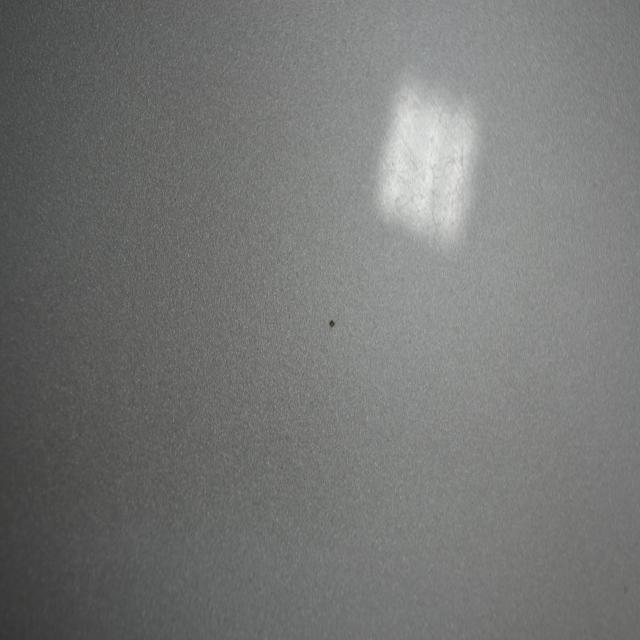dirt: (326, 312, 336, 332)
water marks: (425, 88, 473, 258)
